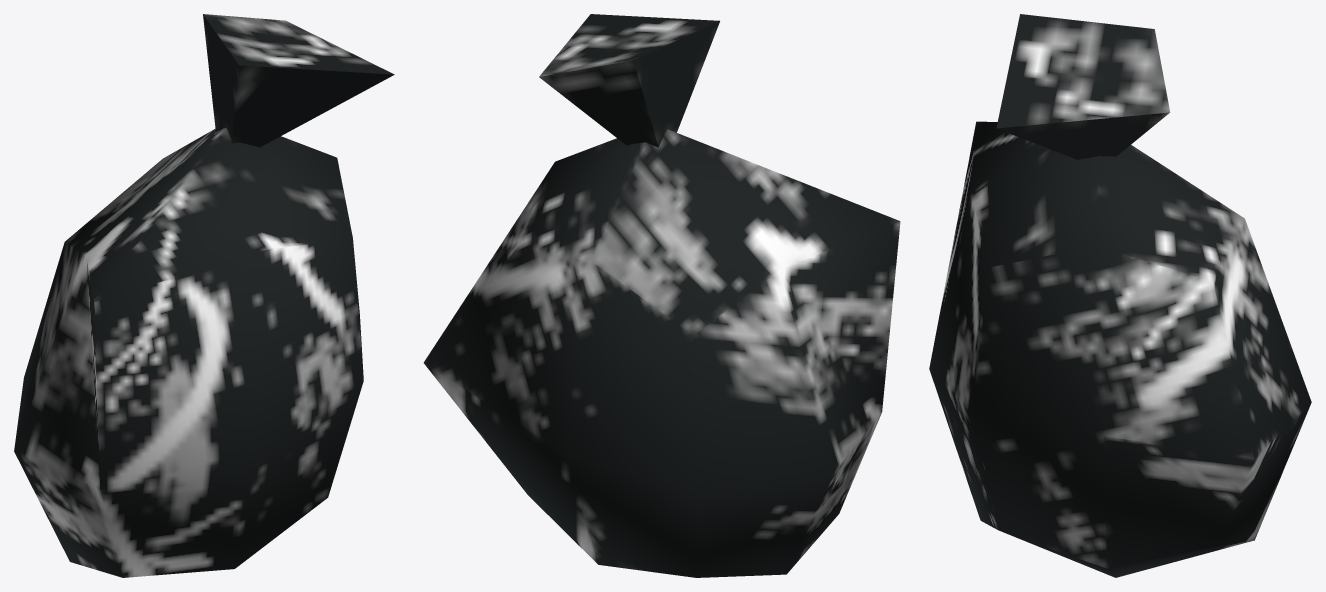
The model's file is trash.fbx.
3 renders of one model, left to right at view 1: azimuth 30°, elevation 25°; view 2: azimuth 150°, elevation 25°; view 3: azimuth 270°, elevation 25°, orthographic. The views are drawn at different scales.
Parts seen in each view (by area): view 1: Cube.071, Cube.072; view 2: Cube.071, Cube.072; view 3: Cube.071, Cube.072.
Boxes of the visible parts, <box> form: Cube.071: <box>14,128,363,577</box>; Cube.072: <box>203,14,394,147</box>; Cube.071: <box>423,129,900,577</box>; Cube.072: <box>539,14,719,147</box>; Cube.071: <box>929,121,1311,577</box>; Cube.072: <box>996,14,1170,159</box>.
Size of the model in its own units: 86.94 by 120 by 73.36.
1 material, 1 textured.
